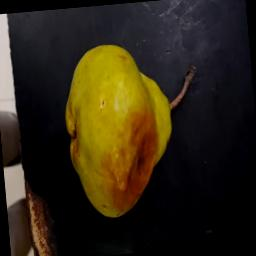Pear Rotten: (46, 28, 215, 228)
